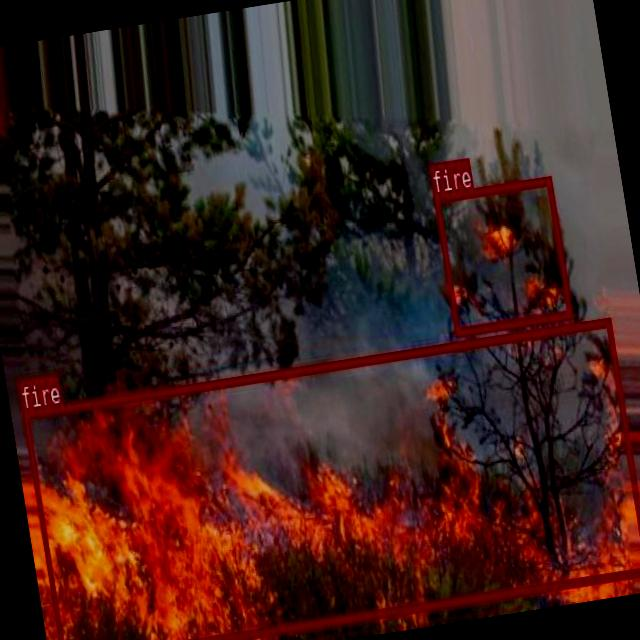fire: (21, 315, 640, 640), (433, 174, 572, 336)
